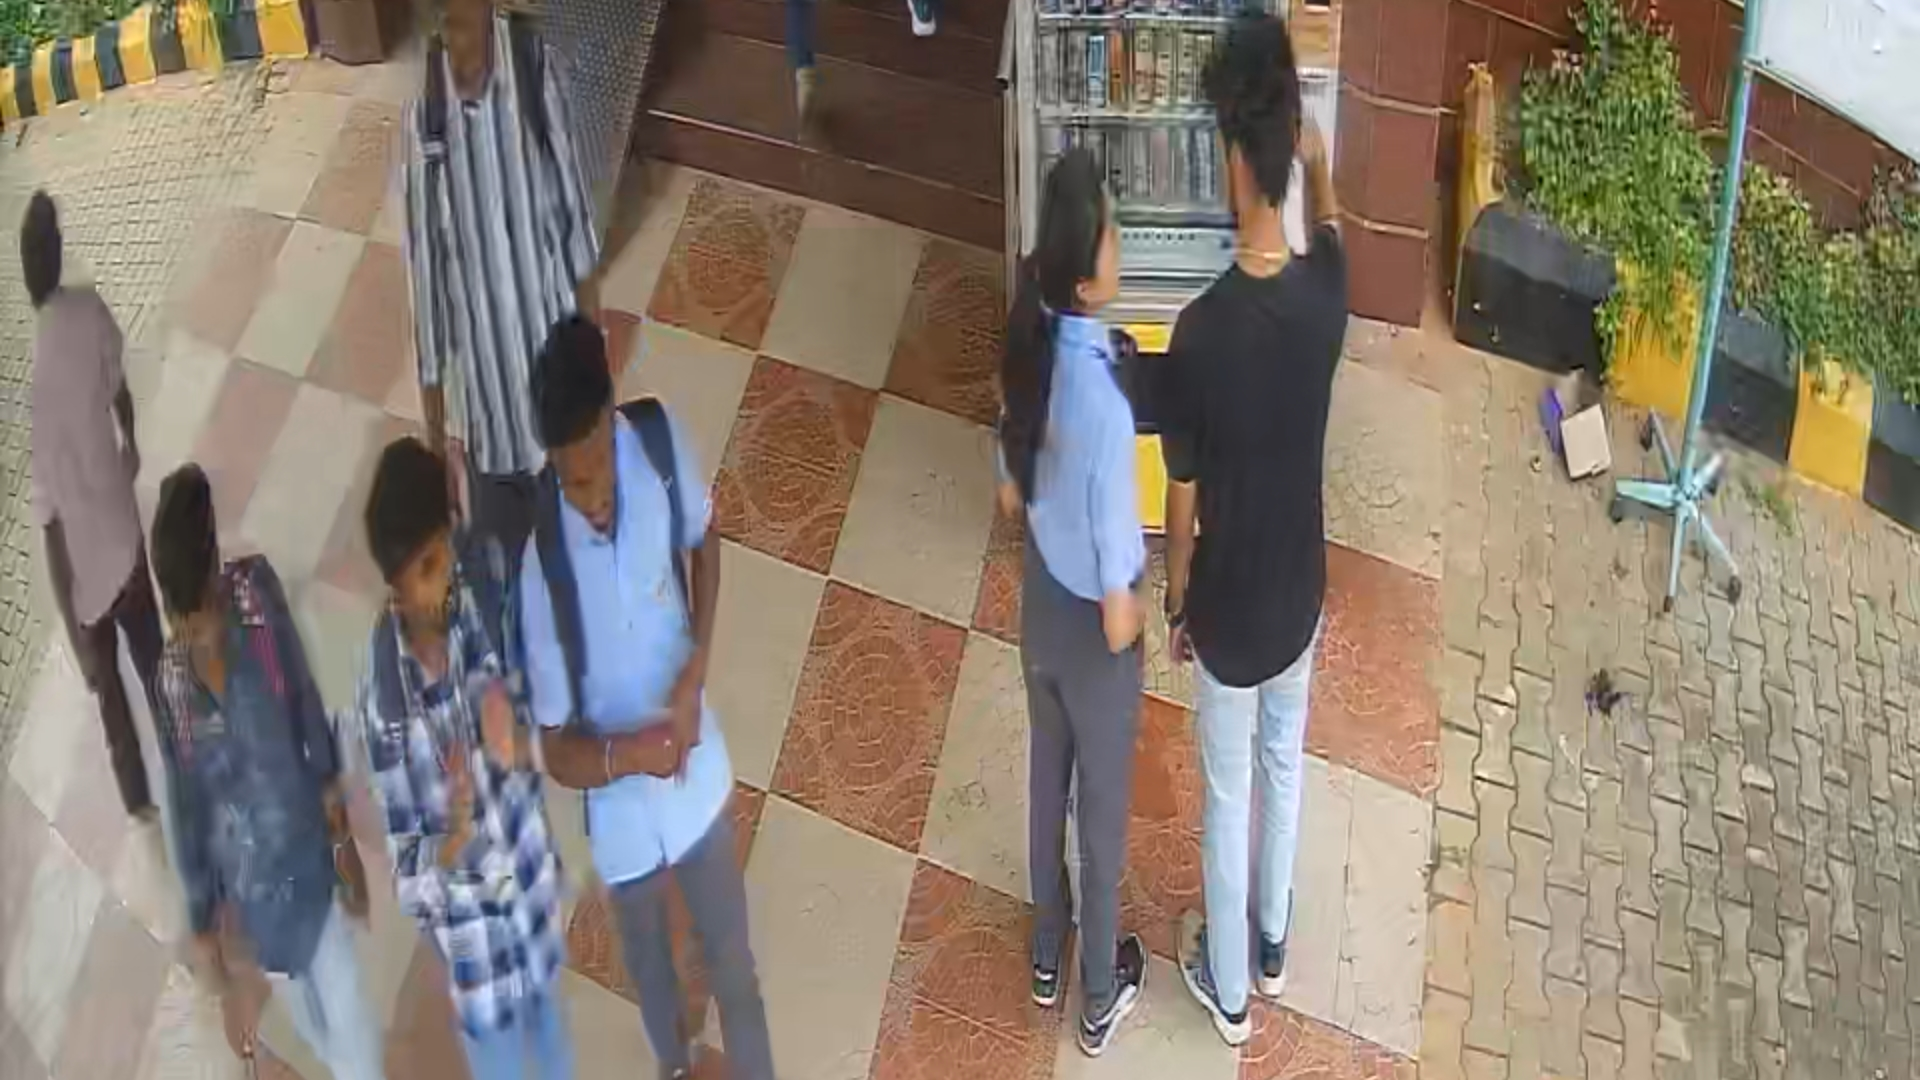intruder: (509, 295, 799, 1080), (338, 444, 604, 1080), (128, 472, 390, 1080)
